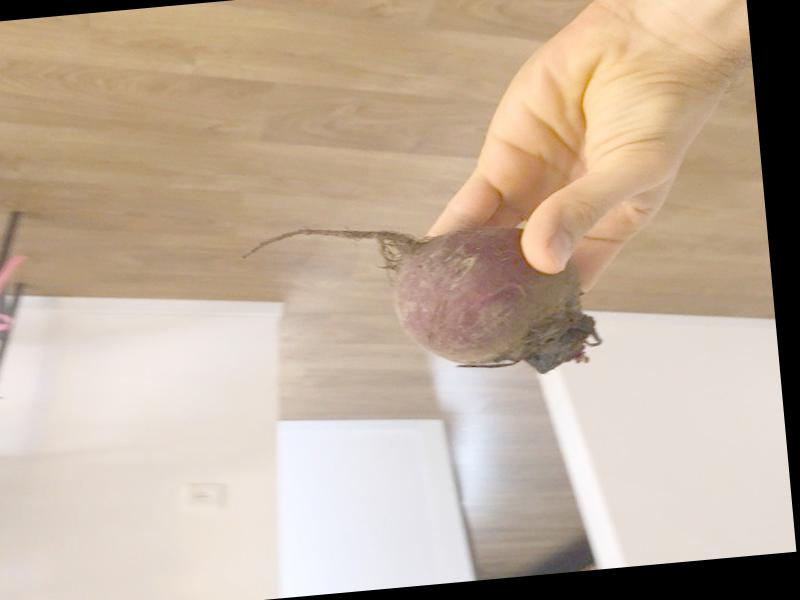Beet: (237, 205, 599, 398)
